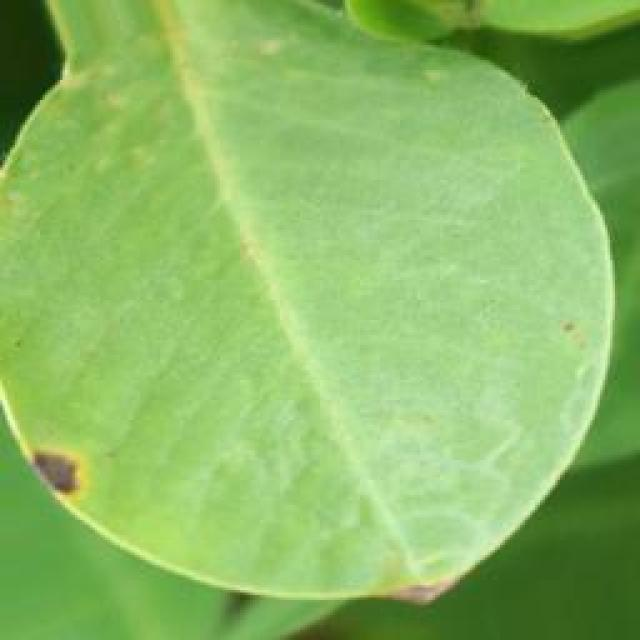Early_leaf_spot: (0, 412, 112, 537), (384, 550, 468, 614), (567, 294, 598, 358)
